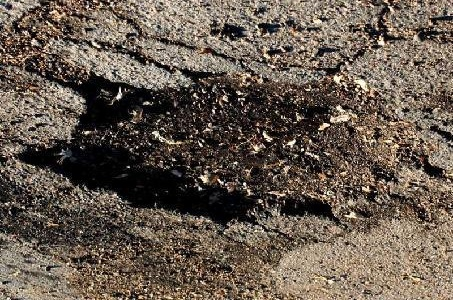pothole: (14, 70, 439, 228)
